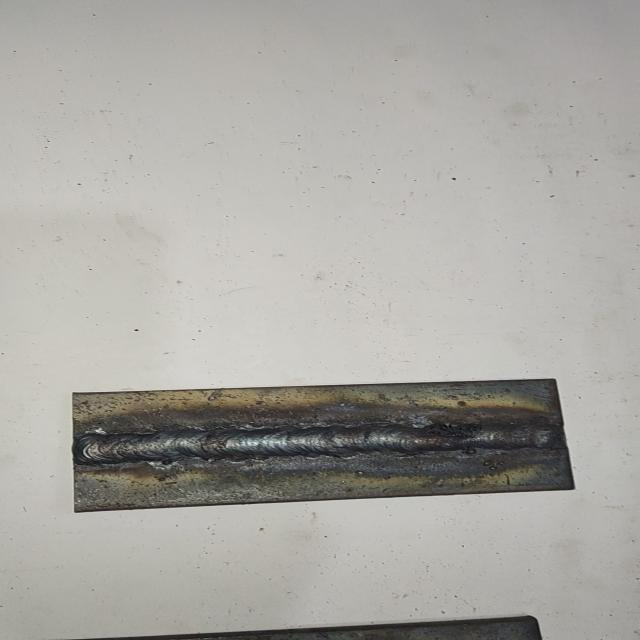Welding Line: (79, 424, 562, 464)
Workpiece: (64, 374, 587, 514)
